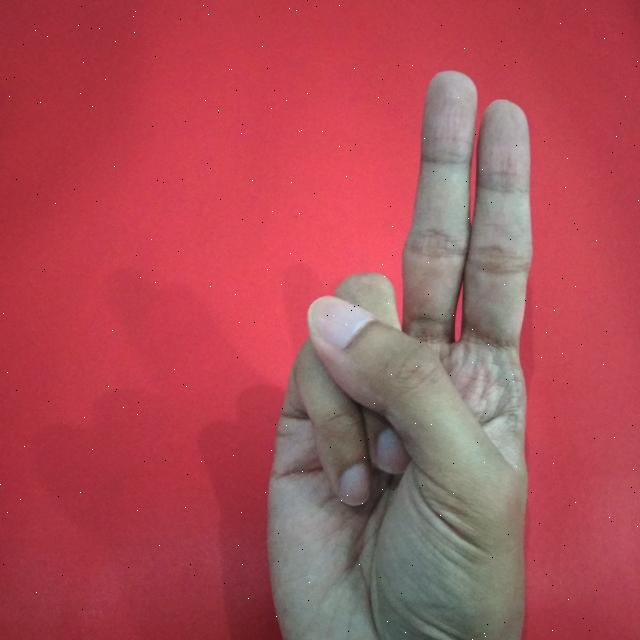U: (258, 61, 546, 640)
